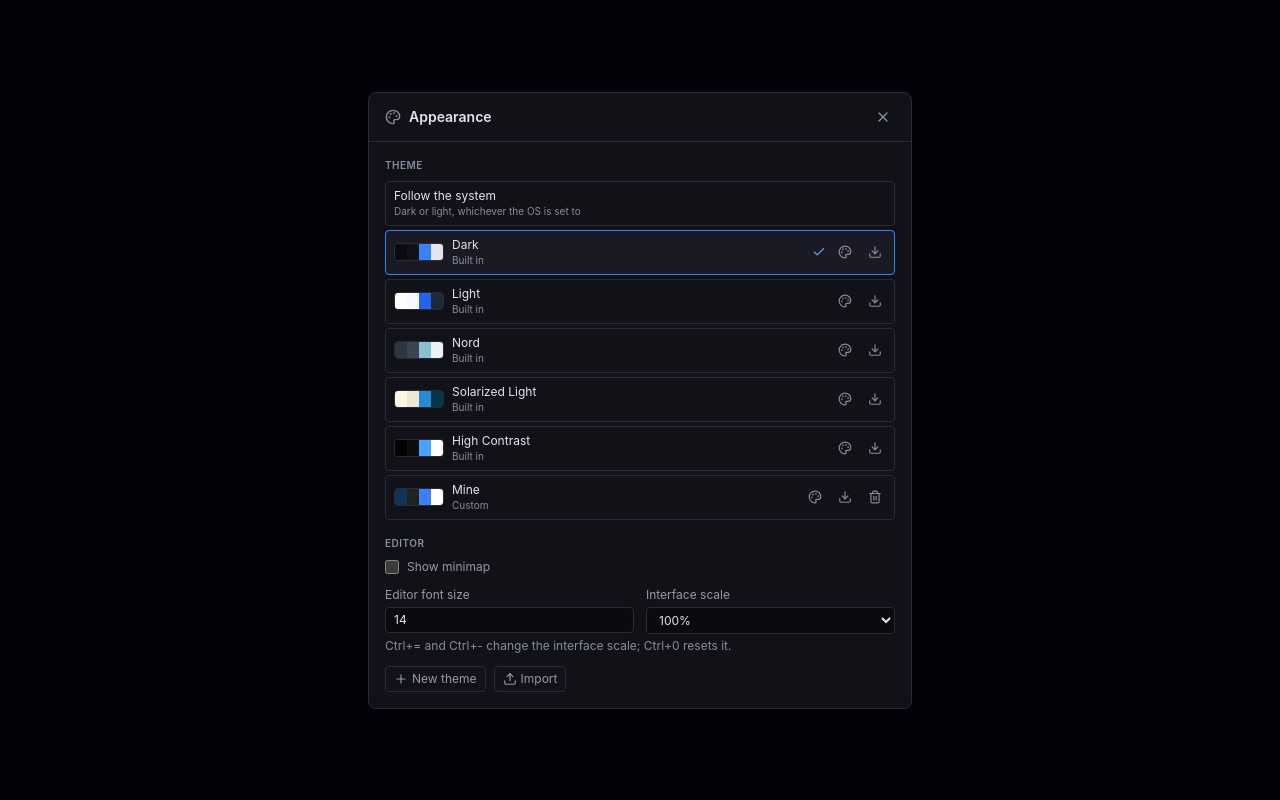
Test case: ThemeSettingsDialog (#350) › custom themes › edits it in place rather than as a copy
Click the button named "Edit Mine" at [815, 497], box [804, 486, 826, 508]
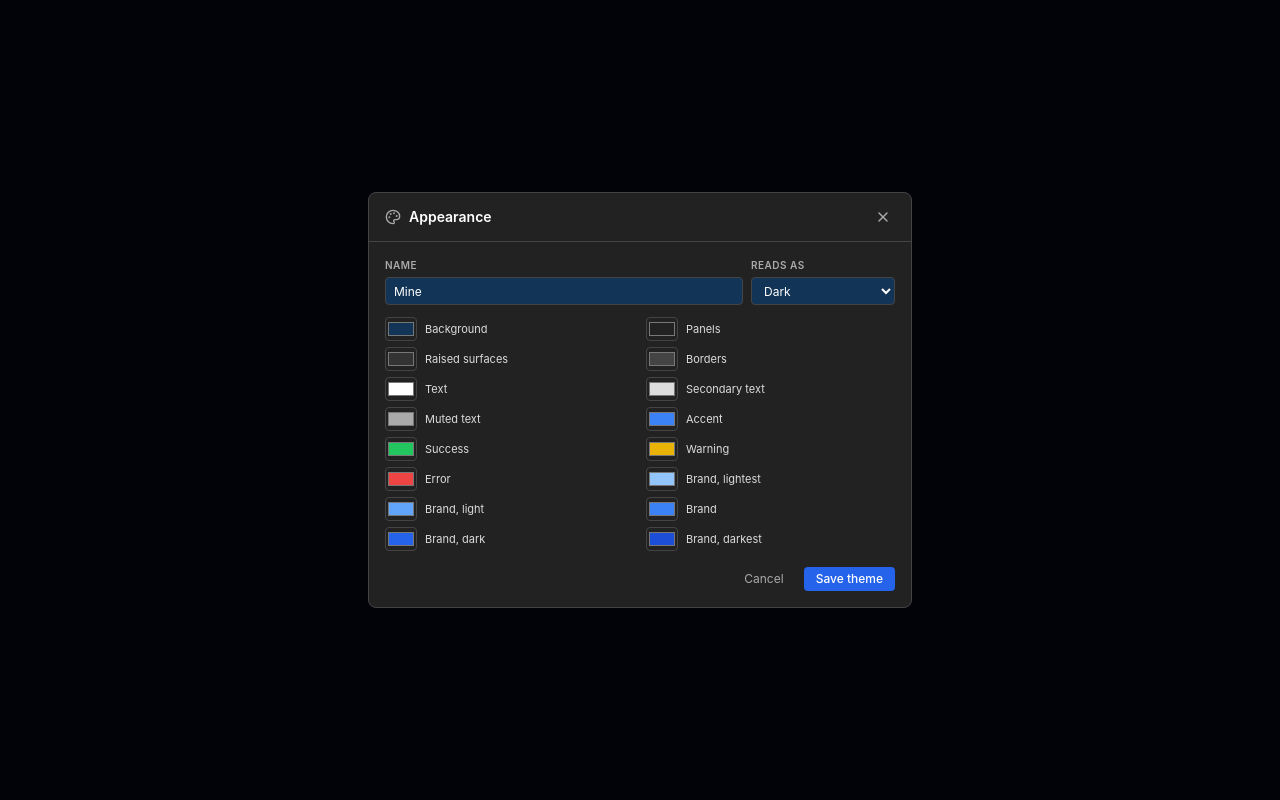
Result: the field labelled "Name" holds "Mine" at [385, 277, 743, 305]
